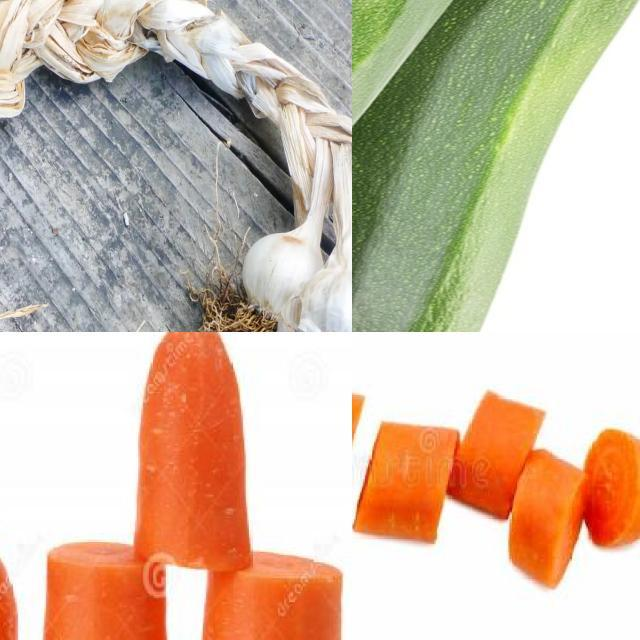carrot: (134, 333, 257, 575), (193, 549, 342, 640), (43, 545, 180, 640)
garlic: (240, 222, 331, 333), (284, 265, 353, 333)
zucchini: (353, 1, 501, 187)
